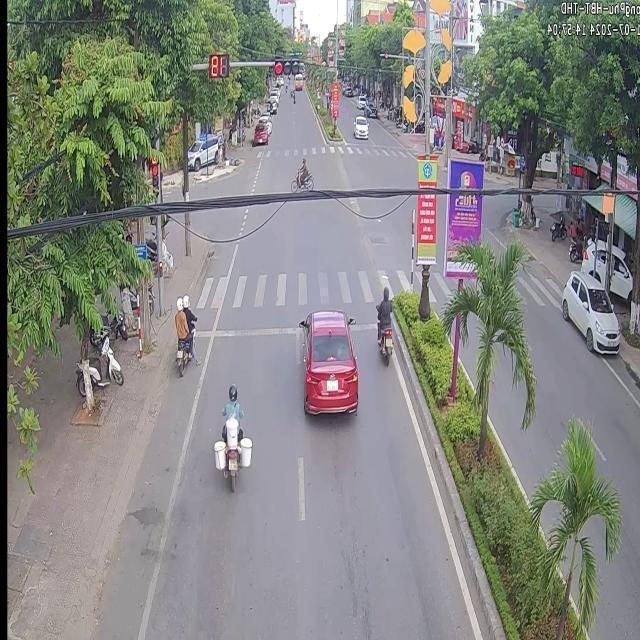car: (298, 309, 356, 411), (560, 269, 618, 350), (608, 245, 630, 302), (187, 131, 217, 169), (579, 238, 593, 274), (594, 238, 604, 285), (250, 118, 267, 144), (352, 114, 367, 138)
motobike: (212, 382, 250, 488), (173, 296, 198, 374), (374, 285, 390, 362), (289, 156, 312, 190)
red_light: (273, 56, 300, 76), (208, 54, 228, 75), (151, 149, 156, 194)
stop_line: (193, 324, 304, 335), (346, 320, 375, 330)
